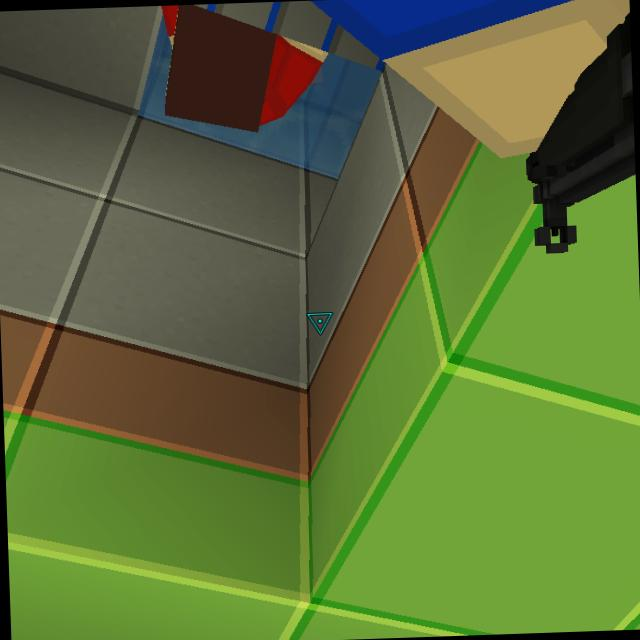enemy: (154, 0, 332, 159)
